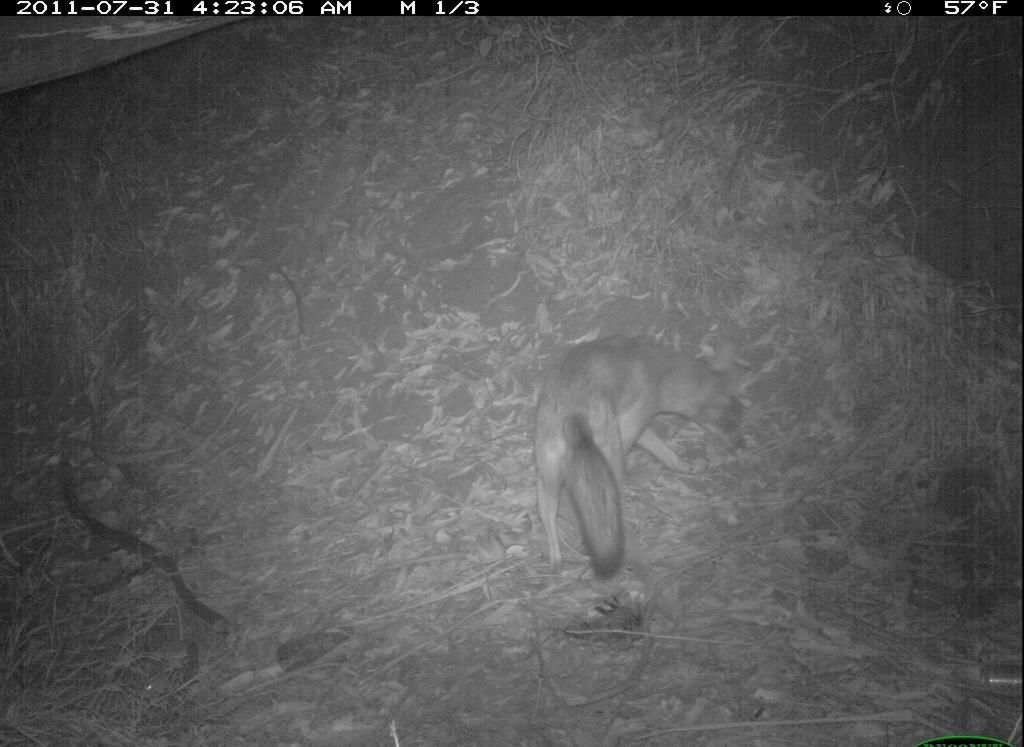coyote: (524, 326, 760, 587)
